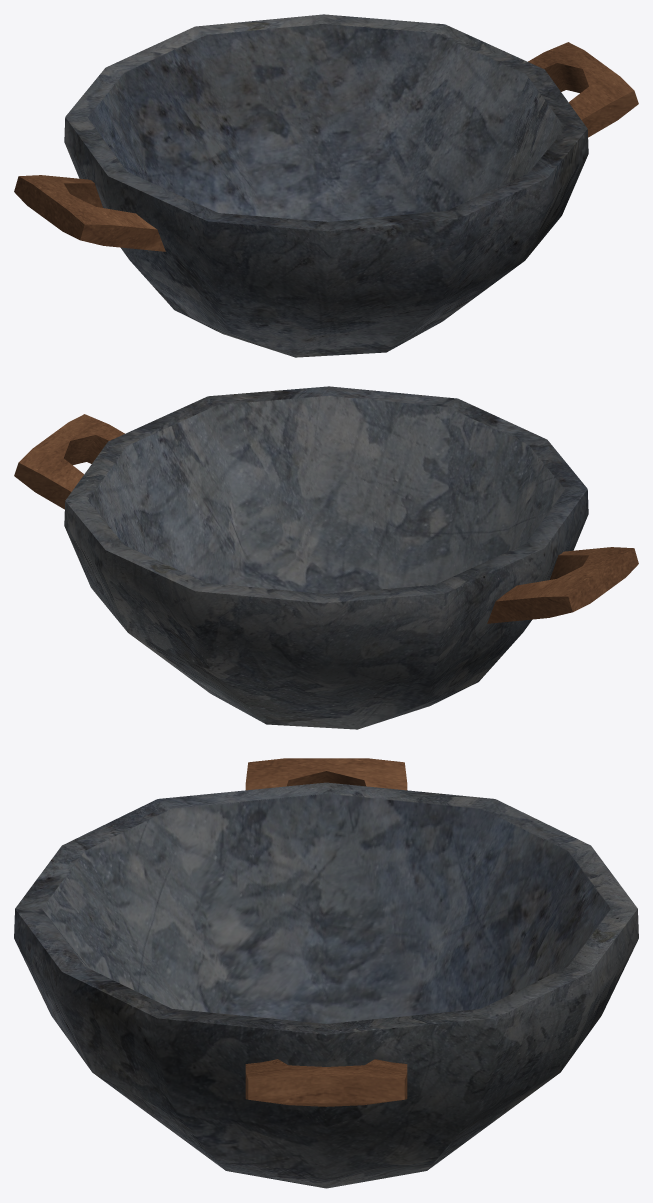
The model's file is Panelao.fbx.
The picture shows the model from 3 angles, top to bottom: view 1: azimuth 30°, elevation 25°; view 2: azimuth 150°, elevation 25°; view 3: azimuth 270°, elevation 25°; orthographic projection. The views are drawn at different scales.
Parts seen in each view (by area): view 1: Panelao; view 2: Panelao; view 3: Panelao.
Part boxes in pixels (box(x1,y1,x2,y2)): Panelao: box(14, 14, 638, 357); Panelao: box(14, 386, 638, 729); Panelao: box(14, 758, 638, 1188).
Bounding box in the file's own units: 102 × 32.16 × 82.88.
